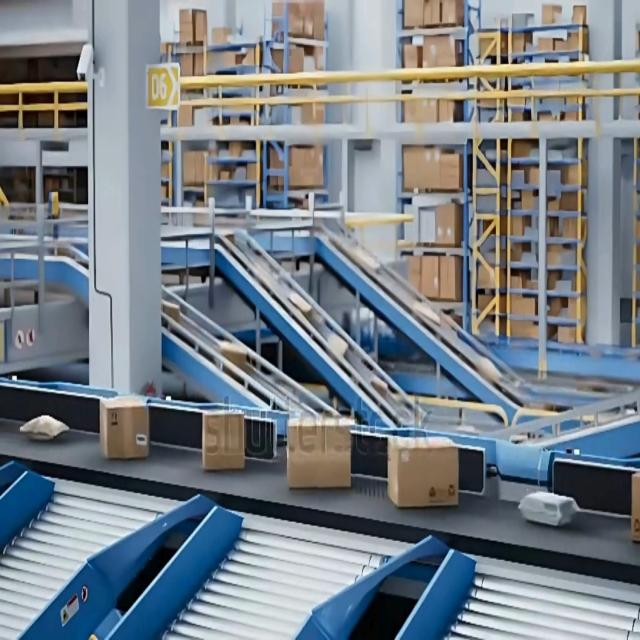product 1: (386, 434, 459, 508), (286, 416, 353, 489), (99, 395, 150, 459), (201, 410, 245, 471), (630, 467, 640, 547)
product 2: (518, 489, 579, 527), (18, 413, 72, 444)
